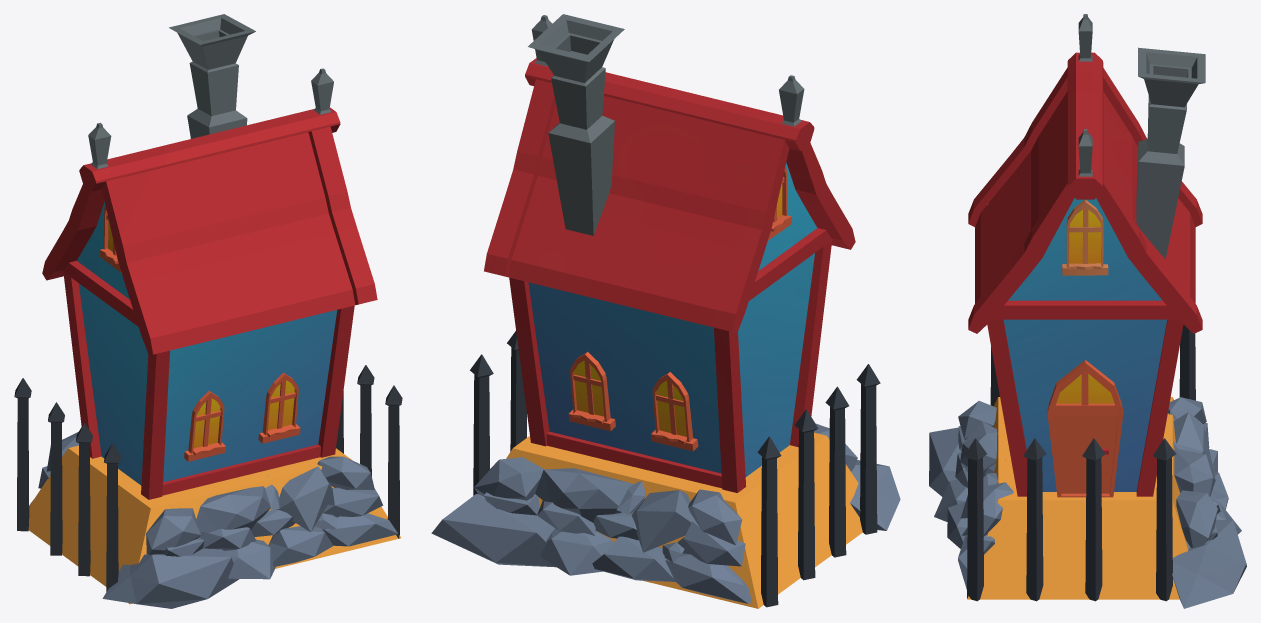
File: House002.fbx
3 views of the same model, side by side, from view 1: azimuth 30°, elevation 25°; view 2: azimuth 150°, elevation 25°; view 3: azimuth 270°, elevation 25° (orthographic). The views are drawn at different scales.
Visible parts, largest first — view 1: House002; view 2: House002; view 3: House002.
Part boxes in pixels (x1,y1,x2,y2): House002: (14, 14, 402, 608); House002: (431, 14, 900, 608); House002: (929, 14, 1246, 608).
Size of the model in its own units: 640 by 953 by 542.
